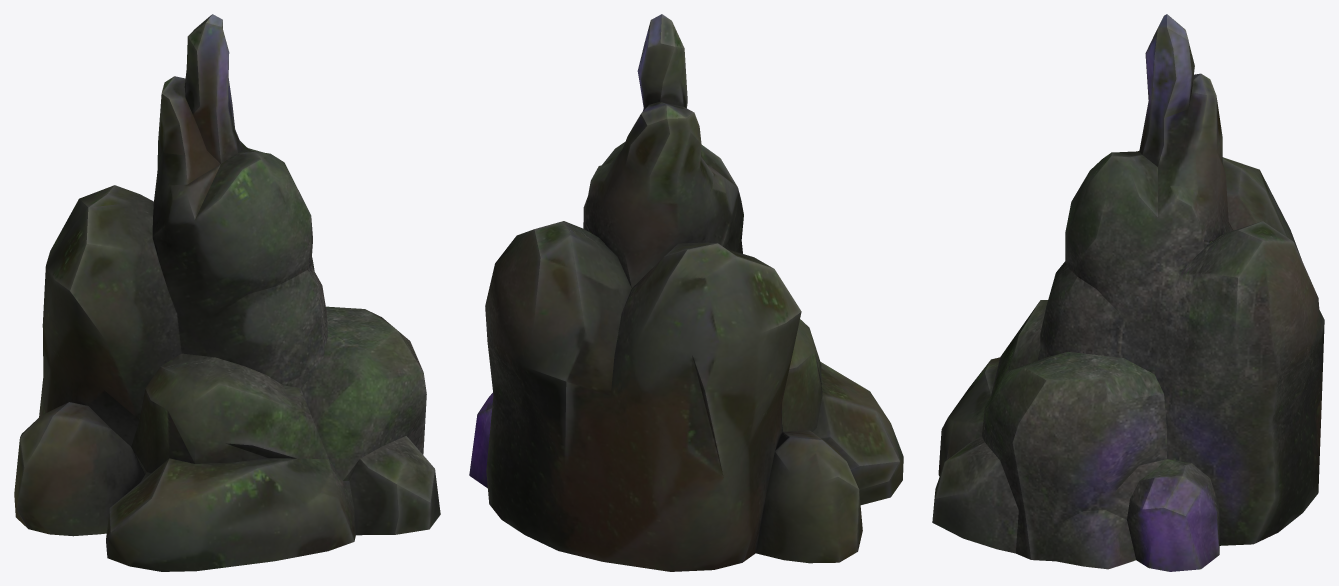
The model's file is BGEAssetsS5.fbx.
The picture shows the model from 3 angles, left to right: view 1: azimuth 30°, elevation 25°; view 2: azimuth 150°, elevation 25°; view 3: azimuth 270°, elevation 25°; orthographic projection. The views are drawn at different scales.
Parts seen in each view (by area): view 1: BGEAsset.014; view 2: BGEAsset.014; view 3: BGEAsset.014.
Part boxes in pixels (box(x1,y1,x2,y2)): BGEAsset.014: box(14, 14, 440, 571); BGEAsset.014: box(469, 14, 903, 571); BGEAsset.014: box(932, 14, 1324, 571).
Bounding box in the file's own units: 26.76 × 33.01 × 24.8.
Materials: 1 (1 with a texture image).
